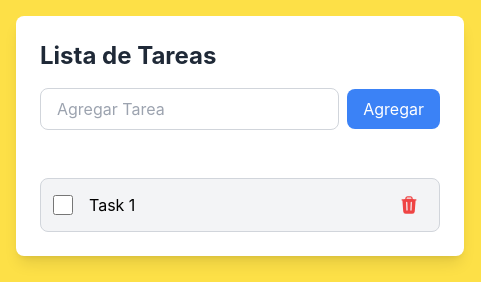
Test: ListaTareas Component › deletes a task when the delete button is clicked
This screenshot has width=481, height=282.
What coordinates should you click on to do the following:
click the button named "Delete Task"
I would click on:
 (409, 205)
Its box is x1=391 y1=191 x2=427 y2=219.
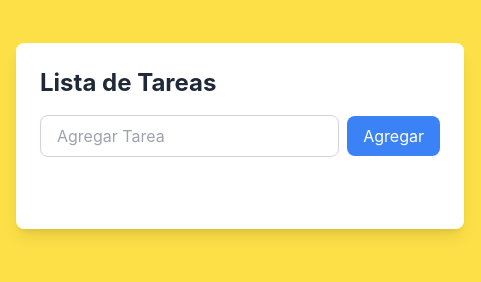
Check: the text "Task 1" is not shown
